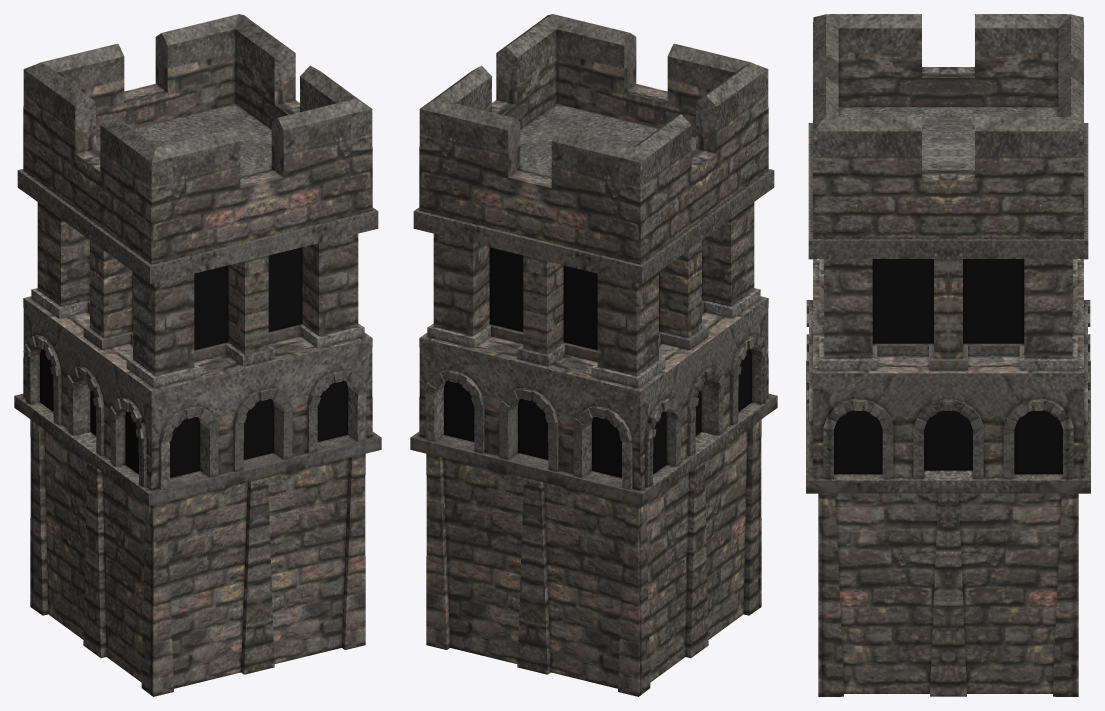
Rendered from Muralla_Torre alta.fbx.
3 renders of one model, left to right at view 1: azimuth 30°, elevation 25°; view 2: azimuth 150°, elevation 25°; view 3: azimuth 270°, elevation 25°, orthographic. The views are drawn at different scales.
Parts seen in each view (by area): view 1: Muralla_torre alta; view 2: Muralla_torre alta; view 3: Muralla_torre alta.
Part boxes in pixels (box(x1,y1,x2,y2)): Muralla_torre alta: box(14, 14, 381, 696); Muralla_torre alta: box(410, 14, 777, 696); Muralla_torre alta: box(806, 14, 1090, 696).
Size of the model in its own units: 6170 by 13825 by 6189.
